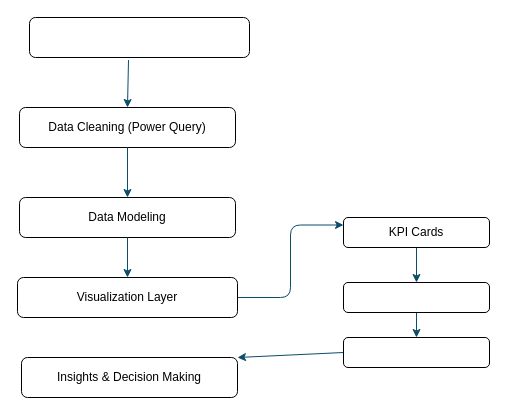
This 507x415 diagram has some shape labels left out. Each missing label, with the centre of its shape:
"Charts" goes at point (416, 297).
"Data Source (Excel / CSV)" goes at point (139, 37).
"Filters" goes at point (416, 352).
